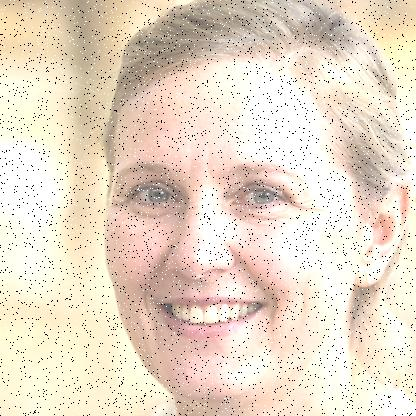eyeee: (226, 182, 298, 210), (121, 180, 185, 210)
mouthhz: (154, 292, 267, 341)
nosebb: (164, 195, 236, 280)
